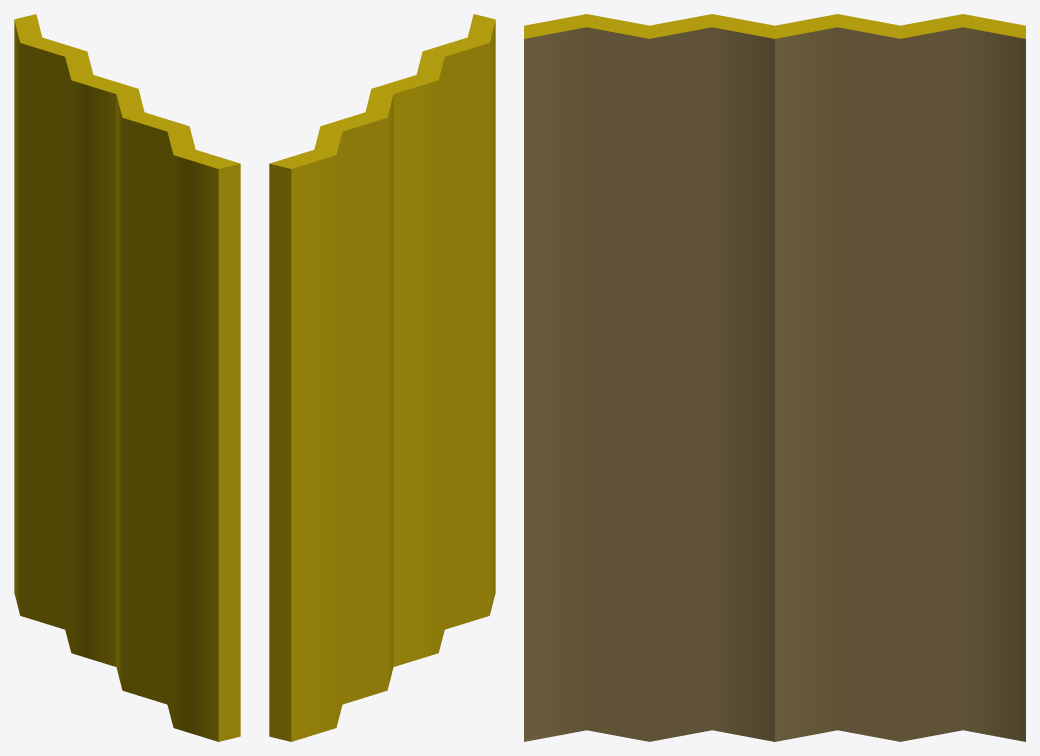
File: obs_lg_curtains.fbx
3 renders of one model, left to right at view 1: azimuth 30°, elevation 25°; view 2: azimuth 150°, elevation 25°; view 3: azimuth 270°, elevation 25°, orthographic. The views are drawn at different scales.
Visible parts, largest first — view 1: pCube25; view 2: pCube25; view 3: pCube25.
Boxes of the visible parts, box(x1,y1,x2,y2) form: pCube25: box(14, 14, 240, 741); pCube25: box(269, 14, 495, 741); pCube25: box(524, 14, 1025, 741).
Bounding box in the file's own units: 0.0652 × 0.8555 × 0.5533.
